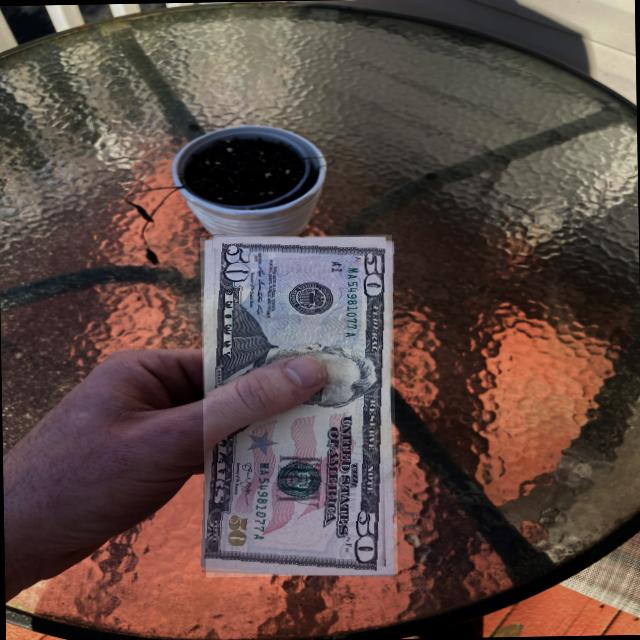fifty: (200, 234, 398, 578)
